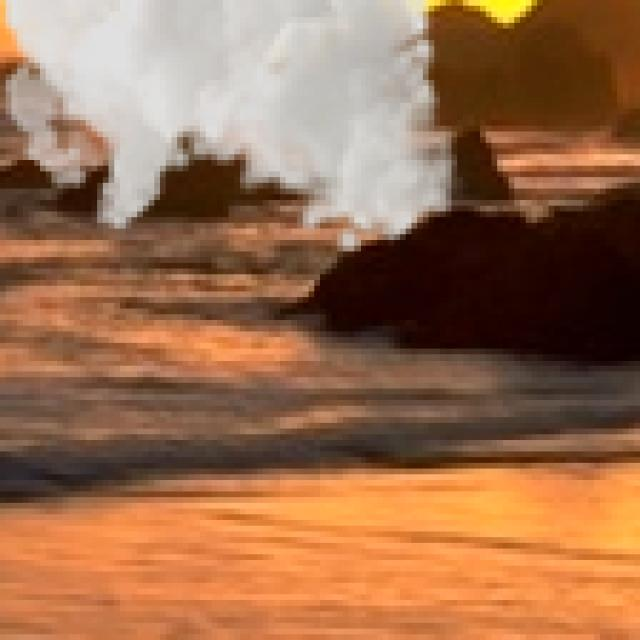smoke: (0, 0, 457, 257)
